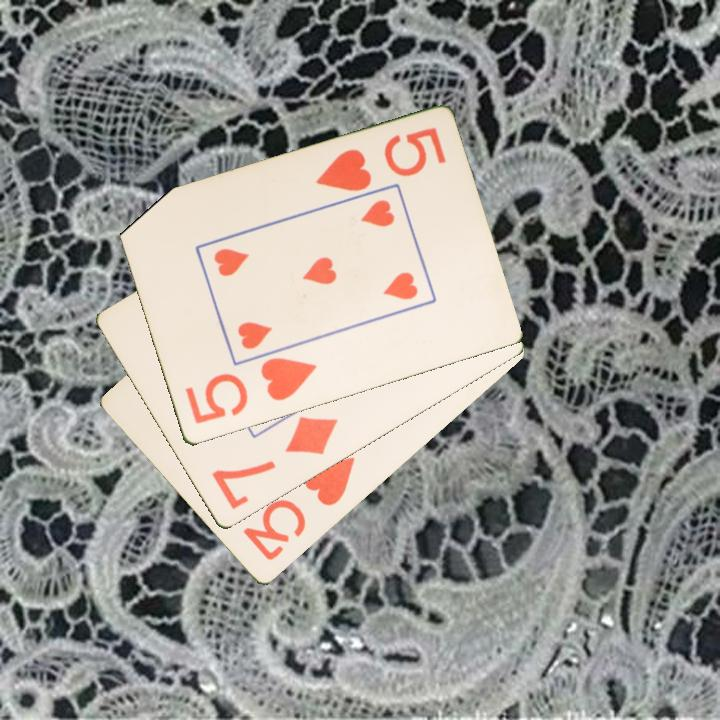3h: (239, 453, 358, 565)
5h: (181, 354, 320, 428), (311, 124, 449, 195)
7d: (208, 413, 341, 514)
